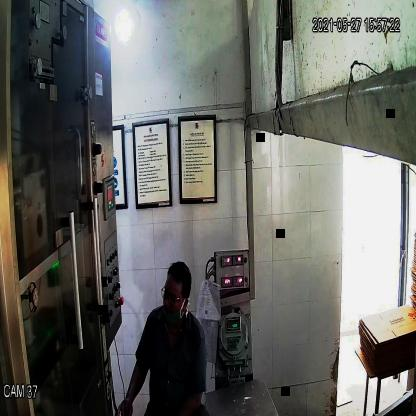goggles: (161, 285, 192, 308)
